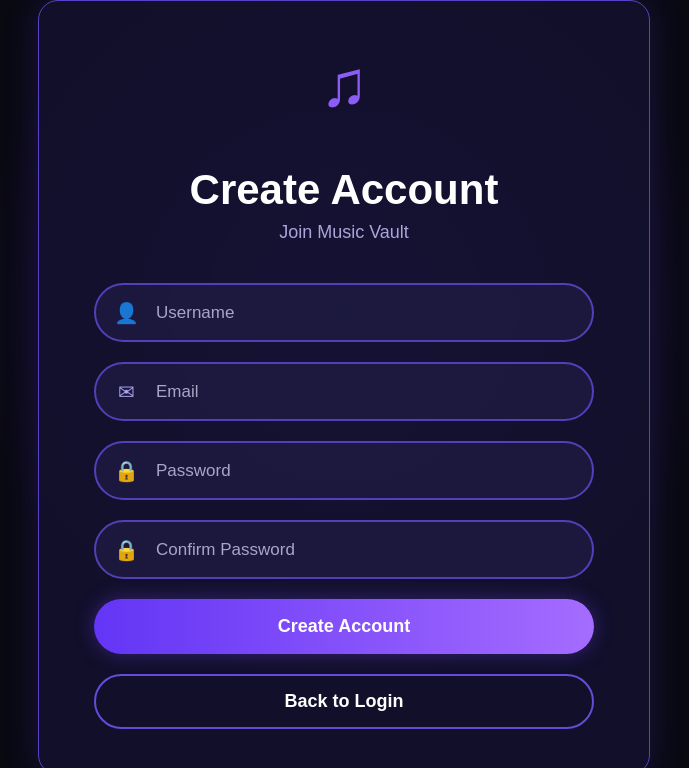
Register page › successfully registers a user and creates a profile
Type "testuser" into the field with placeholder "Username" at (364, 312), box [154,302,574,324]
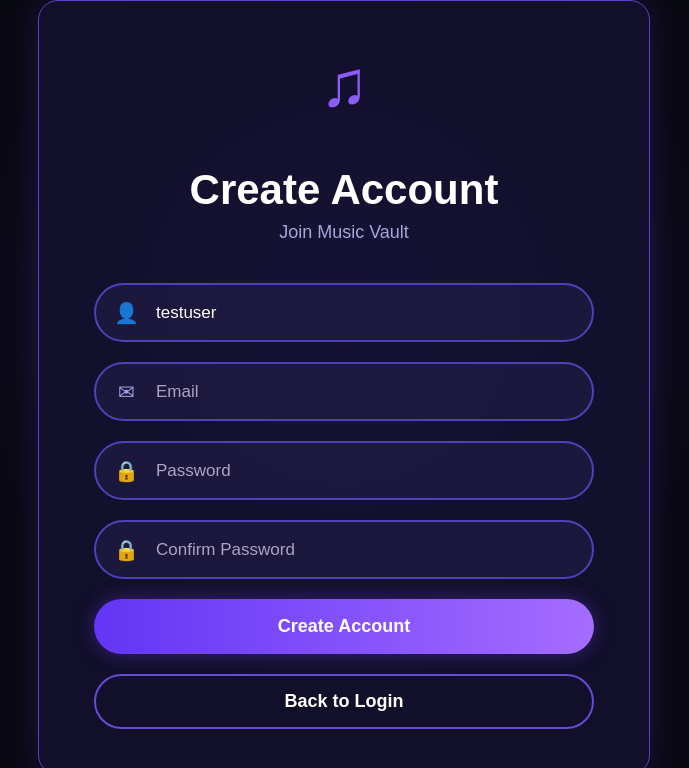
Type "test@example.com" into the field with placeholder "Email" at (364, 392), box [154,380,574,402]
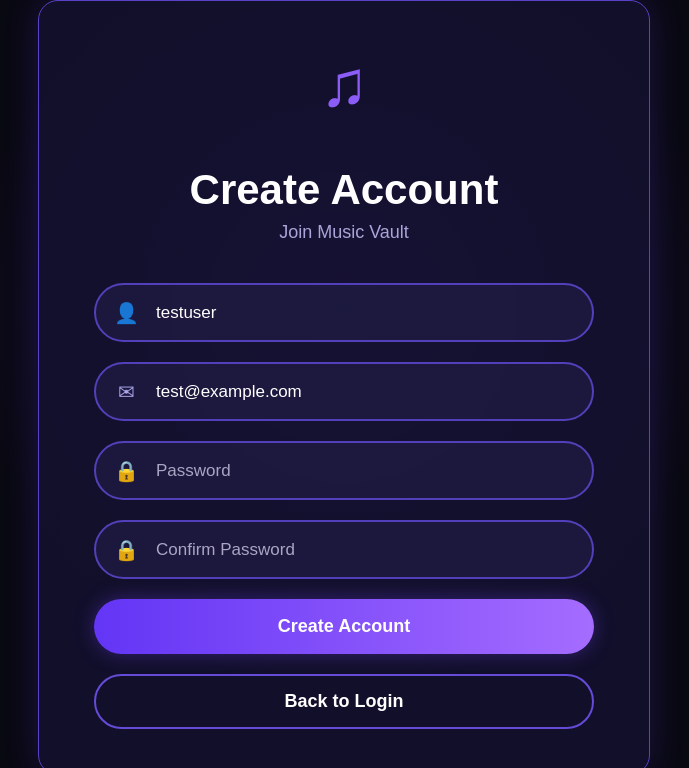
Type "Password123" into the password field with placeholder "Password" at (364, 470), box [154,460,574,482]
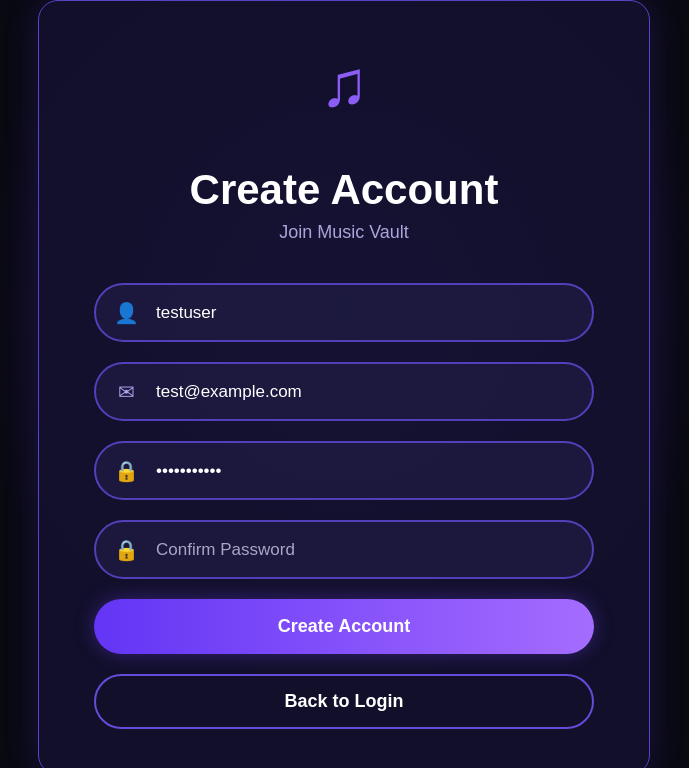
Type "Password123" into the password field with placeholder "Confirm Password" at (364, 550), box [154,538,574,560]
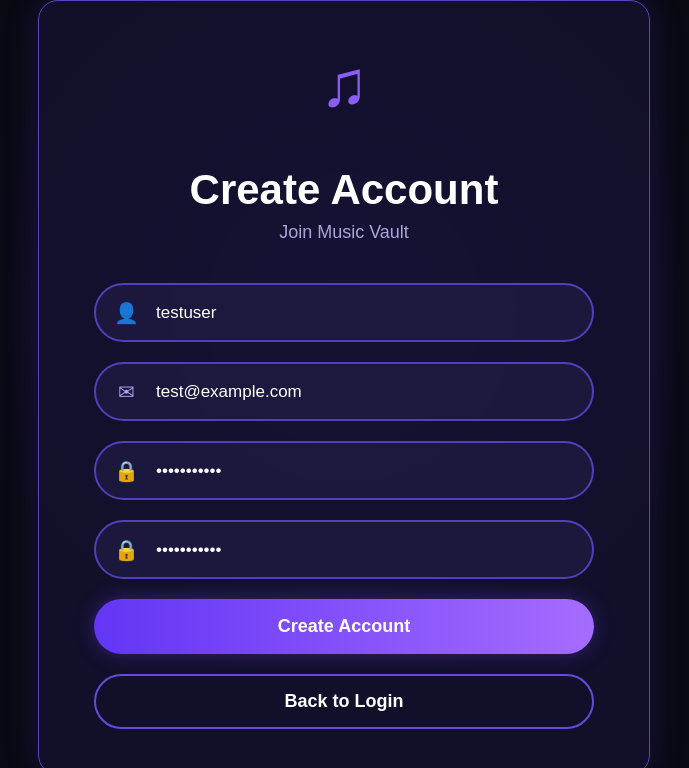
Click the button "Create Account" at (344, 626), box [94,599,594,654]
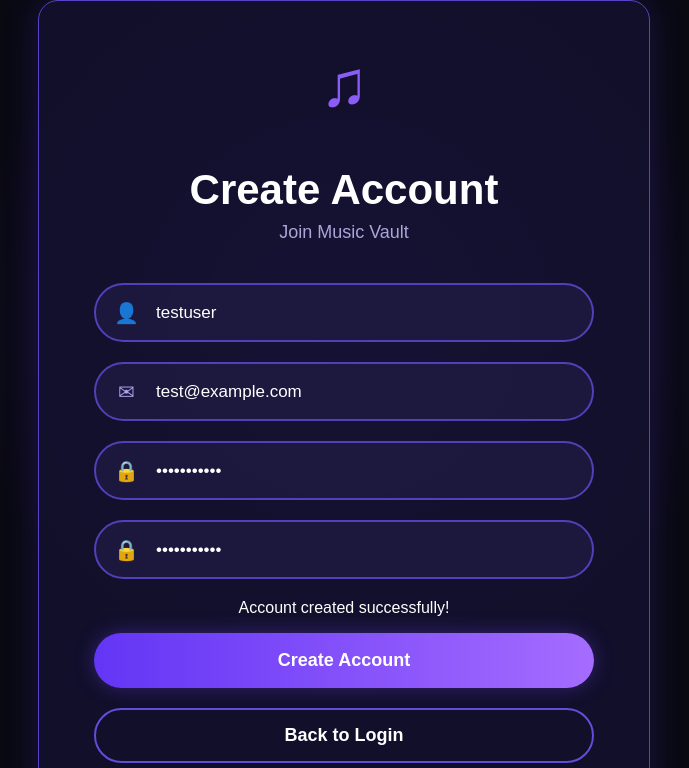
Expected: the text "Account created successfully!" is shown, [239,599,449,616]
